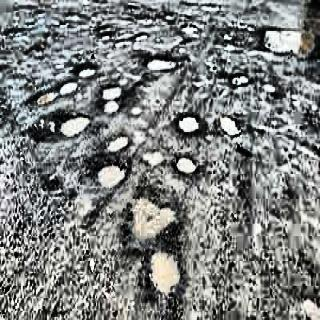pothole: (121, 114, 210, 303), (30, 56, 132, 196), (174, 30, 252, 178), (98, 1, 206, 69), (262, 22, 316, 59)
